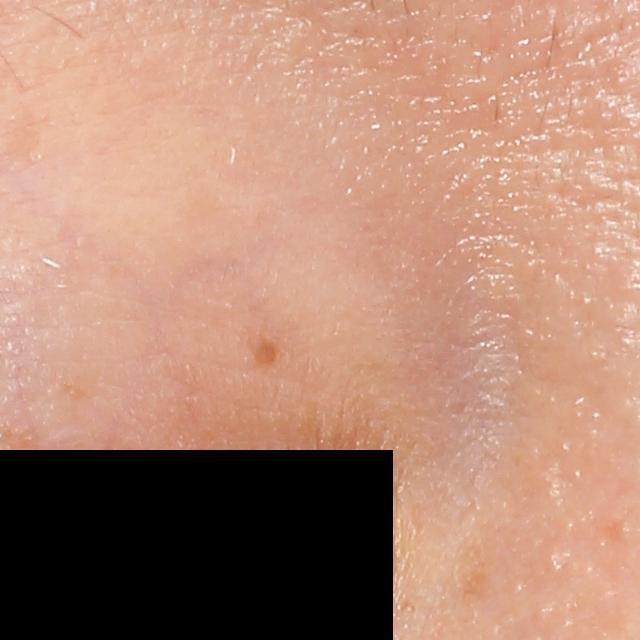melasma: (455, 543, 488, 608), (246, 324, 286, 374)
